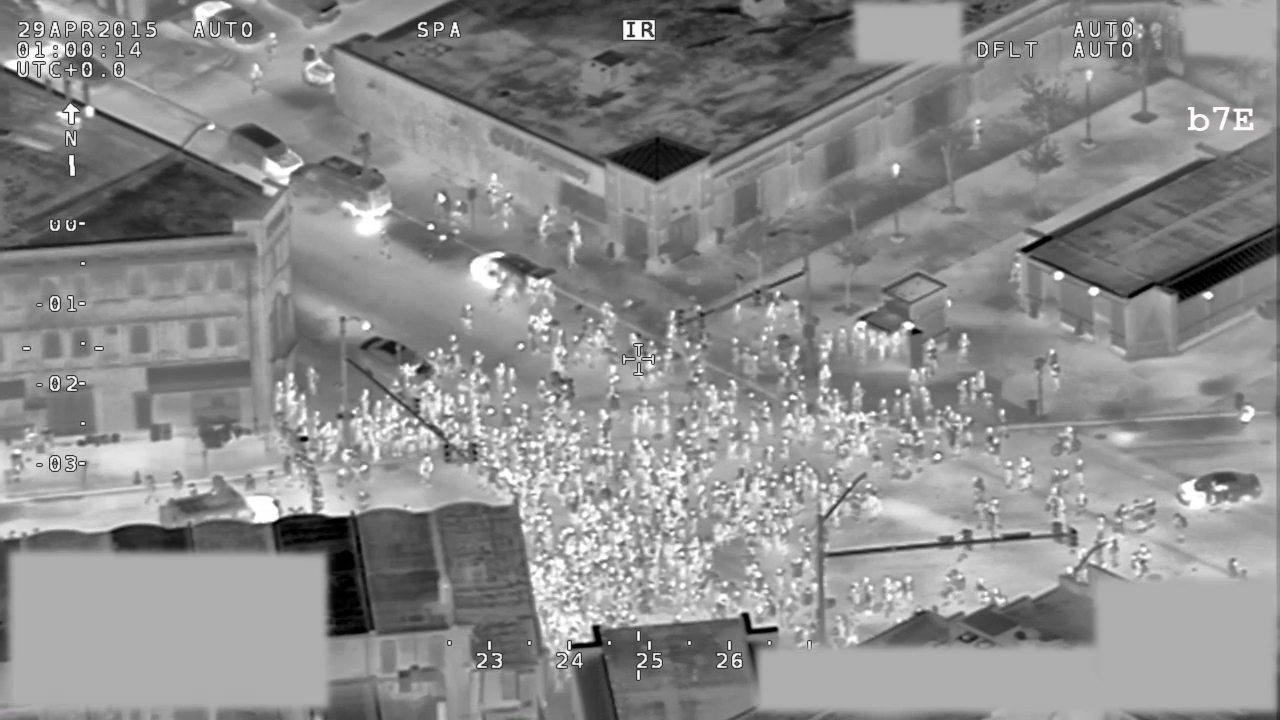vehicle: (289, 125, 399, 222), (465, 243, 560, 308), (224, 122, 306, 181), (354, 332, 438, 389), (1174, 468, 1264, 511), (39, 45, 115, 92), (194, 1, 268, 47)
